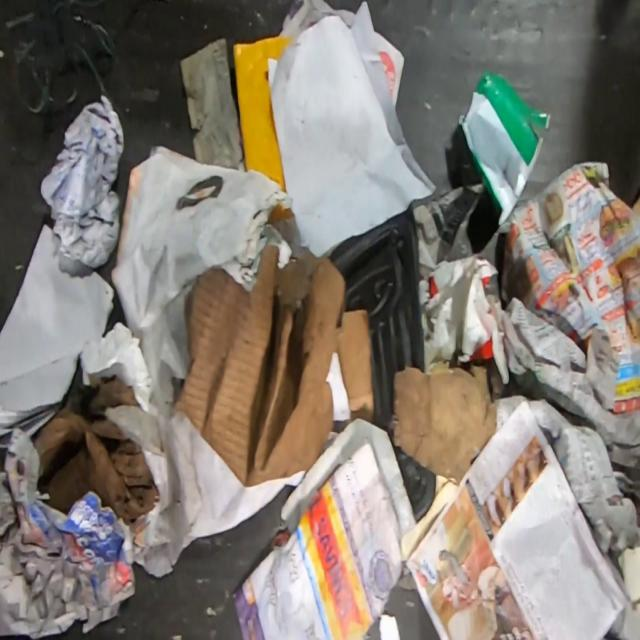cardboard: (173, 244, 373, 486), (32, 350, 160, 524), (393, 362, 494, 479)
rigid_plastic: (325, 208, 435, 521), (460, 72, 551, 225)
